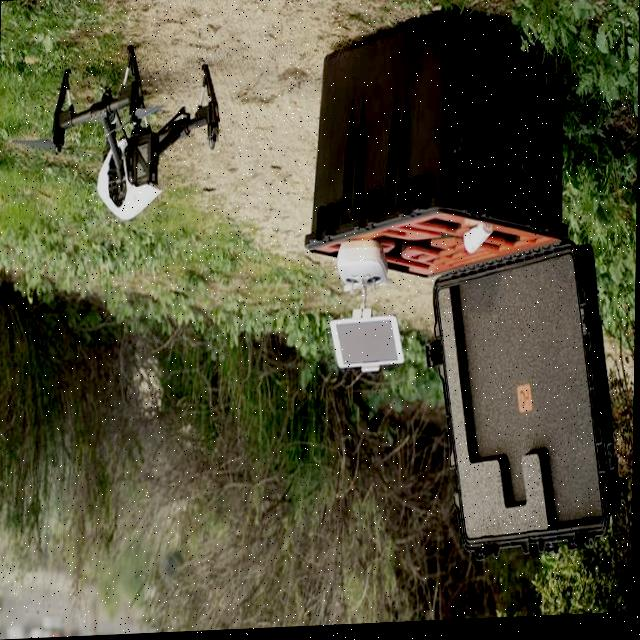drone: (2, 49, 227, 217)
